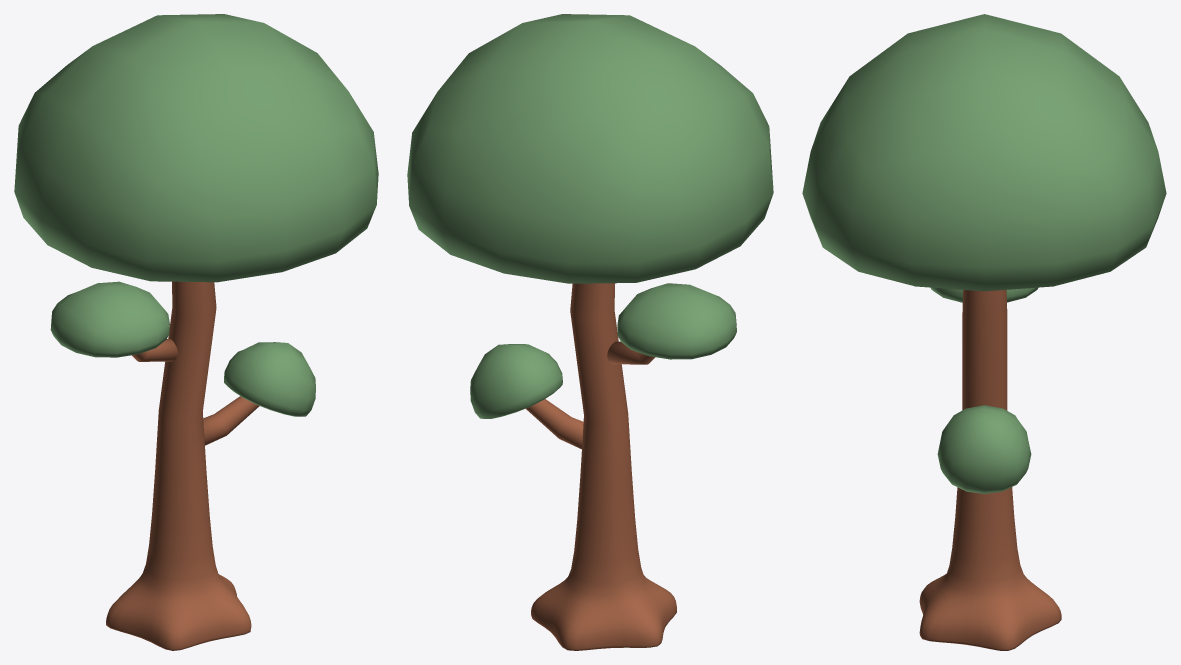
Rendered from tree16.fbx.
3 views of the same model, side by side, from view 1: azimuth 30°, elevation 25°; view 2: azimuth 150°, elevation 25°; view 3: azimuth 270°, elevation 25° (orthographic).
Visible parts, largest first — view 1: tree16; view 2: tree16; view 3: tree16.
Part boxes in pixels (x1,y1,x2,y2): tree16: (14,14,378,650); tree16: (407,14,773,650); tree16: (802,14,1166,650).
Size of the model in its own units: 624 by 1134 by 624.
